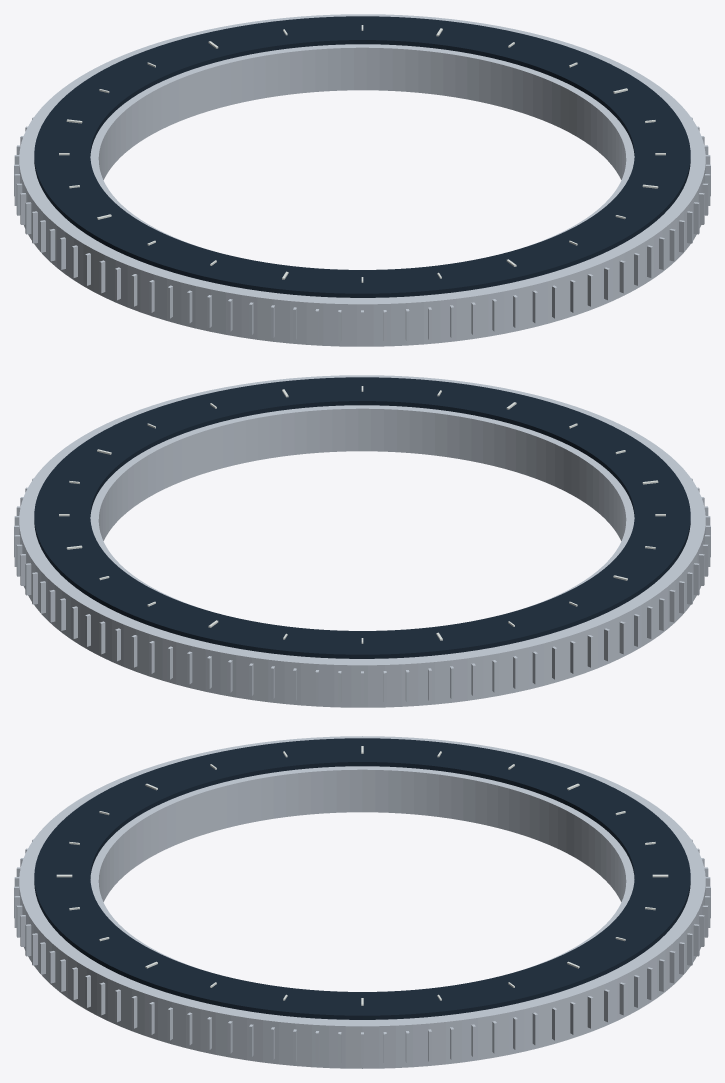
Rendered from bezel-gmt-42.glb.
The picture shows the model from 3 angles, top to bottom: view 1: azimuth 30°, elevation 25°; view 2: azimuth 150°, elevation 25°; view 3: azimuth 270°, elevation 25°; orthographic projection.
Visible parts, largest first — view 1: DD_BEZEL_CARRIER, DD_BEZEL_INSERT; view 2: DD_BEZEL_CARRIER, DD_BEZEL_INSERT; view 3: DD_BEZEL_CARRIER, DD_BEZEL_INSERT.
Part boxes in pixels (box(x1,y1,x2,y2)): DD_BEZEL_CARRIER: box(19, 14, 705, 346); DD_BEZEL_INSERT: box(34, 16, 690, 297); DD_BEZEL_CARRIER: box(19, 375, 705, 707); DD_BEZEL_INSERT: box(34, 377, 690, 658); DD_BEZEL_CARRIER: box(19, 736, 705, 1068); DD_BEZEL_INSERT: box(34, 738, 690, 1019).
Size of the model in its own units: 41.62 by 3.19 by 41.62.
